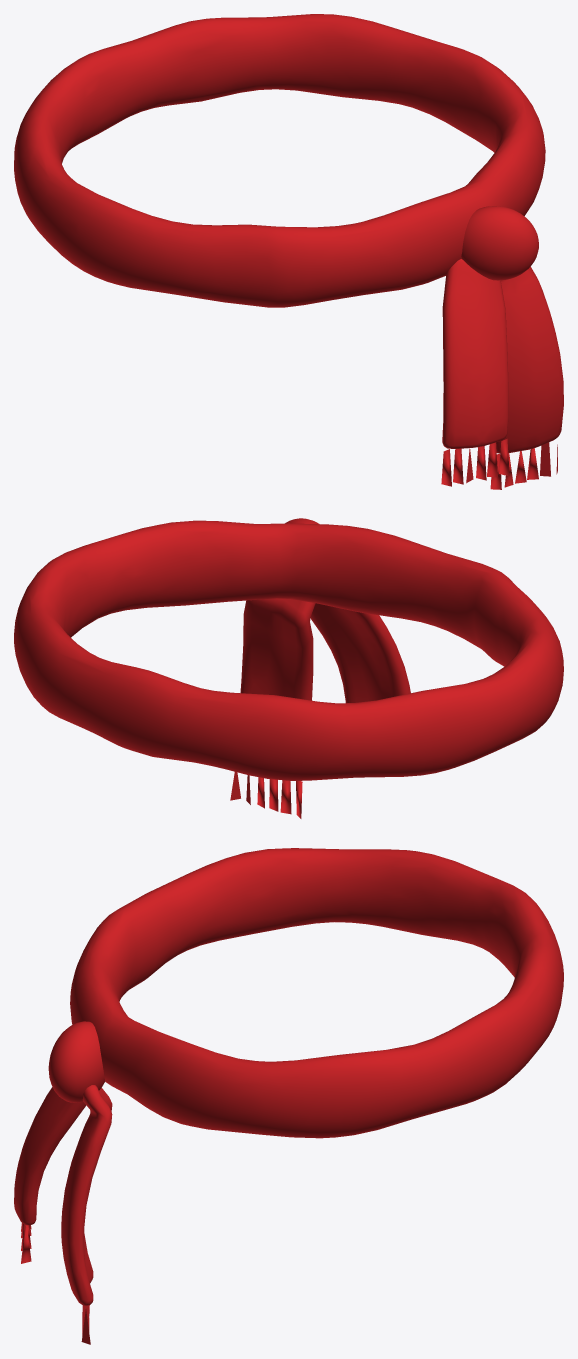
Rendered from scarf.glb.
3 renders of one model, top to bottom at view 1: azimuth 30°, elevation 25°; view 2: azimuth 150°, elevation 25°; view 3: azimuth 270°, elevation 25°, orthographic. The views are drawn at different scales.
Parts seen in each view (by area): view 1: Accessory_scarf; view 2: Accessory_scarf; view 3: Accessory_scarf.
Boxes of the visible parts, <box> form: Accessory_scarf: <box>14,14,563,489</box>; Accessory_scarf: <box>14,518,563,818</box>; Accessory_scarf: <box>14,848,563,1344</box>.
Bounding box in the file's own units: 1.4 × 0.9143 × 1.4.
